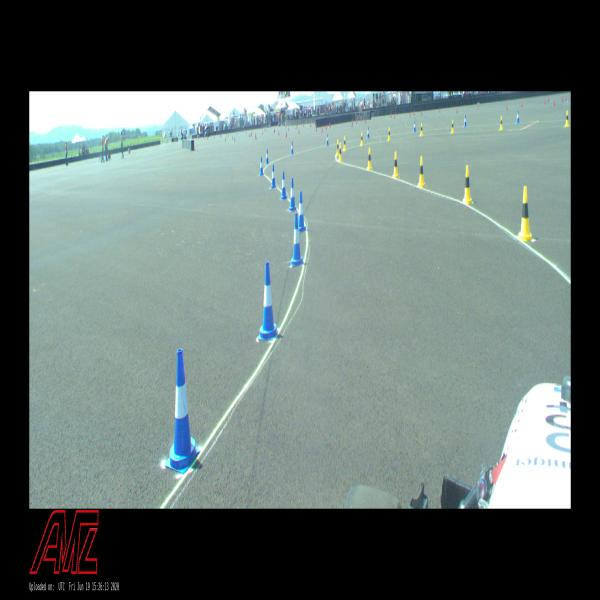blue_cone: (165, 349, 199, 474), (258, 261, 279, 340), (291, 214, 303, 266), (296, 190, 306, 232), (288, 178, 296, 212), (280, 171, 288, 199), (270, 164, 277, 189), (259, 157, 264, 176), (266, 149, 270, 165), (516, 110, 520, 124), (366, 126, 370, 139), (290, 142, 294, 154), (463, 115, 467, 126), (413, 119, 416, 133), (326, 134, 329, 146)
unknown_cone: (553, 98, 555, 107), (548, 94, 550, 102), (285, 130, 287, 138), (544, 98, 546, 105), (521, 100, 523, 107), (506, 103, 508, 110), (351, 121, 353, 128), (351, 118, 353, 125), (565, 96, 567, 102), (456, 108, 458, 114), (278, 130, 280, 136), (298, 128, 300, 134), (295, 124, 297, 130), (255, 134, 257, 140), (234, 136, 236, 142), (360, 117, 362, 122), (231, 135, 233, 140), (562, 95, 563, 103), (390, 114, 392, 118), (321, 128, 323, 132), (477, 104, 478, 110), (421, 110, 422, 116), (413, 110, 414, 116), (262, 130, 263, 136), (439, 107, 440, 112), (394, 114, 395, 119), (365, 118, 366, 123), (356, 120, 357, 125), (357, 116, 358, 121), (330, 124, 331, 129), (330, 122, 331, 127), (326, 125, 327, 130), (315, 127, 316, 132), (288, 126, 289, 131), (410, 112, 410, 117)
yellow_cone: (517, 186, 533, 241), (462, 165, 473, 205), (418, 155, 426, 188), (393, 151, 399, 179), (366, 147, 372, 171), (564, 110, 570, 127), (338, 142, 342, 163), (499, 115, 503, 131), (387, 126, 391, 141), (336, 138, 339, 156), (451, 119, 454, 134), (343, 136, 346, 151), (360, 132, 363, 146), (420, 123, 423, 136)
